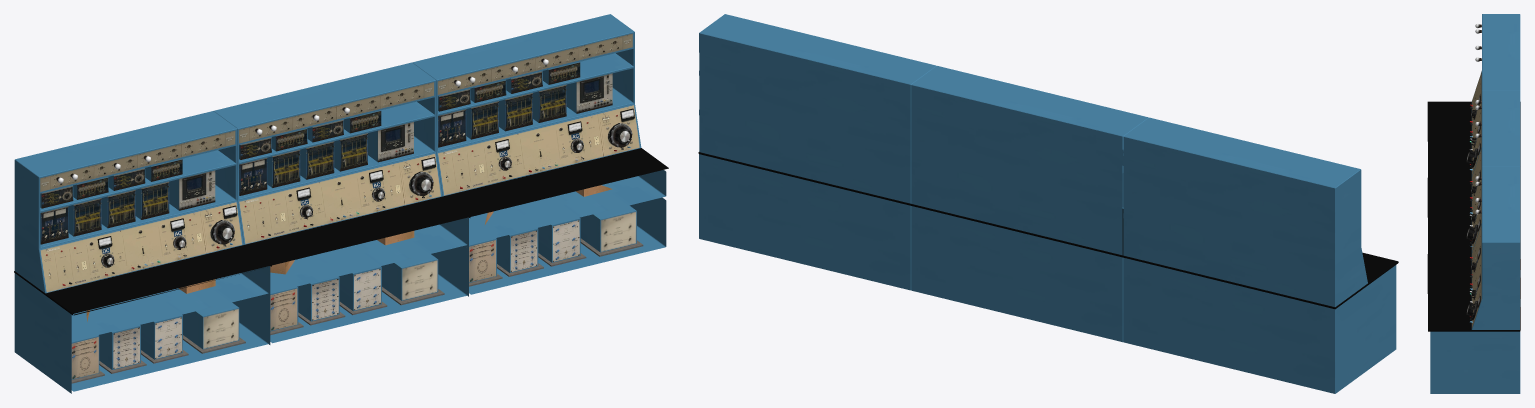
The model's file is machine_lab.glb.
3 views of the same model, side by side, from view 1: azimuth 30°, elevation 25°; view 2: azimuth 150°, elevation 25°; view 3: azimuth 270°, elevation 25° (orthographic). The views are drawn at different scales.
Parts seen in each view (by area): view 1: Object_24.1543; view 2: Object_24.1543; view 3: Object_24.1543.
Boxes of the visible parts, left/top/right/bottom form: Object_24.1543: left=14, top=14, right=668, bottom=393; Object_24.1543: left=698, top=14, right=1398, bottom=393; Object_24.1543: left=1427, top=14, right=1520, bottom=393.
Size of the model in its own units: 6.01 by 1.86 by 1.04.
Materials: 1 (1 with a texture image).
